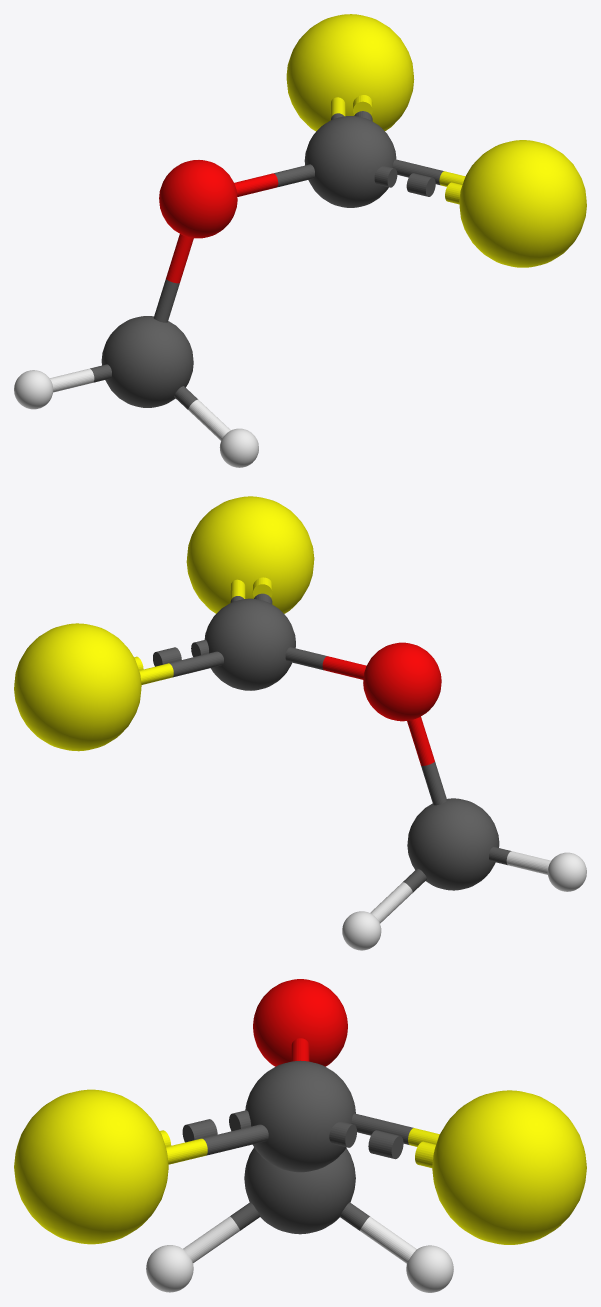
File: methyl_xanthate.fbx
3 renders of one model, top to bottom at view 1: azimuth 30°, elevation 25°; view 2: azimuth 150°, elevation 25°; view 3: azimuth 270°, elevation 25°, orthographic. The views are drawn at different scales.
Parts seen in each view (by area): view 1: S03, S02, C05, C01, O04, C01-=S03, O04-C05, H06, H08, C01-O04, C05-H08, C05-H06 (+1 smaller); view 2: S02, S03, C05, C01, O04, C01-=S02, O04-C05, H07, H06, C01-O04, C05-H07, C05-H06 (+1 smaller); view 3: S02, S03, C01, C05, O04, C01-=S02, C01-=S03, H08, H07, C05-H08, C05-H07.
Part boxes in pixels (x1,y1,x2,y2): S03: (459,140,586,267); S02: (286,14,414,131); C05: (101,316,193,407); C01: (304,116,396,207); O04: (159,160,237,238); C01-=S03: (374,159,465,204); O04-C05: (153,234,193,322); H06: (14,370,53,409); H08: (219,428,258,467); C01-O04: (234,164,314,196); C05-H08: (174,386,230,440); C05-H06: (50,364,111,392); S02: (14,623,141,751); S03: (186,496,314,613); C05: (407,798,499,890); C01: (204,598,295,690); O04: (363,642,441,721); C01-=S02: (134,639,223,684); O04-C05: (407,716,447,805); H07: (342,911,381,950); H06: (547,852,586,891); C01-O04: (285,647,366,679); C05-H07: (370,868,426,923); C05-H06: (489,847,550,874); S02: (432,1090,586,1244); S03: (14,1089,168,1244); C01: (245,1060,355,1172); C05: (244,1147,355,1234); O04: (253,979,347,1066); C01-=S02: (329,1113,439,1167); C01-=S03: (160,1110,268,1164); H08: (146,1245,193,1292); H07: (406,1245,453,1292); C05-H08: (183,1202,260,1263); C05-H07: (340,1202,416,1263).
Size of the model in its own units: 446 by 254 by 385.
